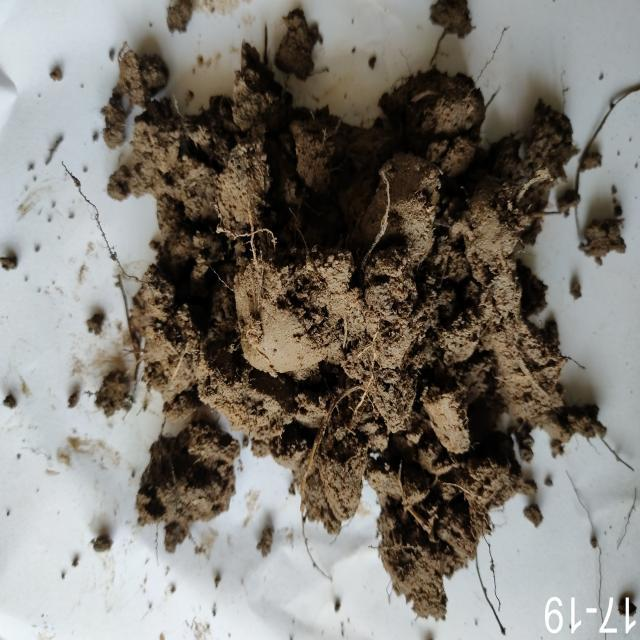soil: (190, 128, 540, 474)
